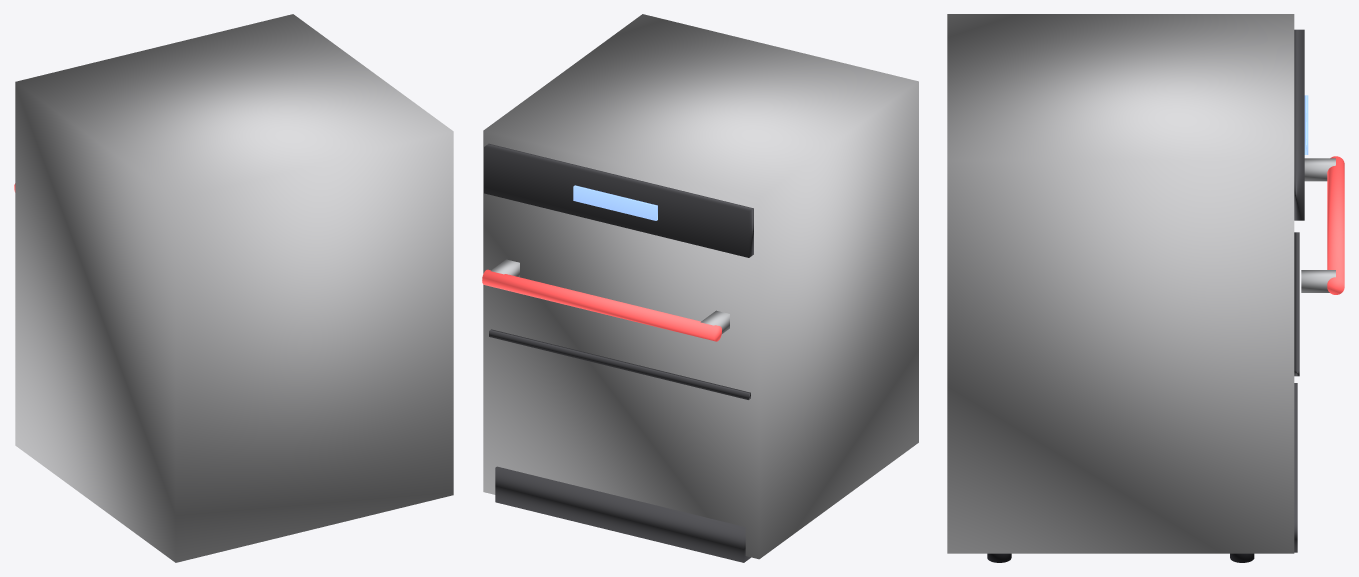
The model's file is dishwasher.glb.
3 views of the same model, side by side, from view 1: azimuth 30°, elevation 25°; view 2: azimuth 150°, elevation 25°; view 3: azimuth 270°, elevation 25° (orthographic). The views are drawn at different scales.
Visible parts, largest first — view 1: chassis; view 2: chassis, panel, kick, bar, door_seam, display; view 3: chassis, bar, panel, door_seam, st_R, kick, st_L.
Part boxes in pixels (x1,y1,x2,y2): chassis: (15, 14, 453, 562); chassis: (483, 14, 918, 559); panel: (484, 143, 753, 257); kick: (495, 466, 750, 562); bar: (482, 269, 721, 341); door_seam: (489, 329, 750, 399); display: (573, 185, 657, 220); chassis: (947, 14, 1294, 553); bar: (1327, 156, 1344, 294); panel: (1294, 29, 1304, 220); door_seam: (1294, 232, 1299, 376); st_R: (1301, 270, 1335, 292); kick: (1294, 383, 1297, 552); st_L: (1304, 158, 1335, 181).
Size of what is drawn, in the model's own units: 1 by 1.31 by 1.15.
